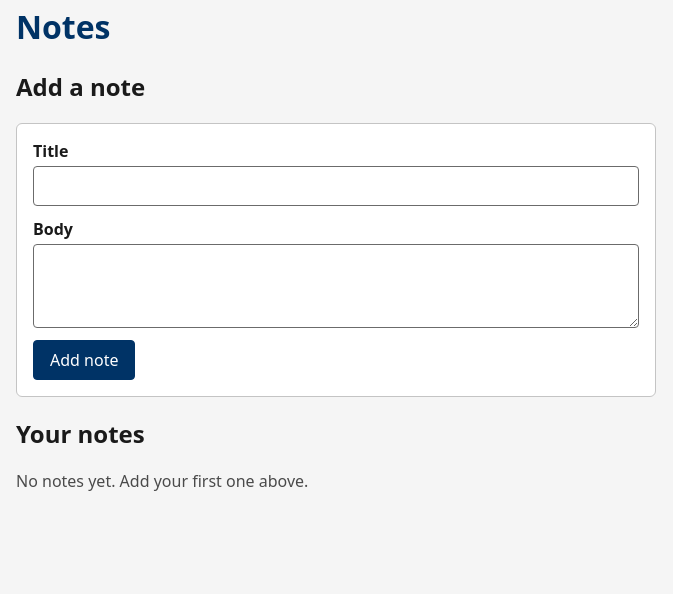
App › adds a new note to the list
Expected: the text "No notes yet. Add your first one above." is shown, [16,470,308,492]
Type "Bread" into the field labelled "Title". click: (336, 186)
box: [33,166,639,206]
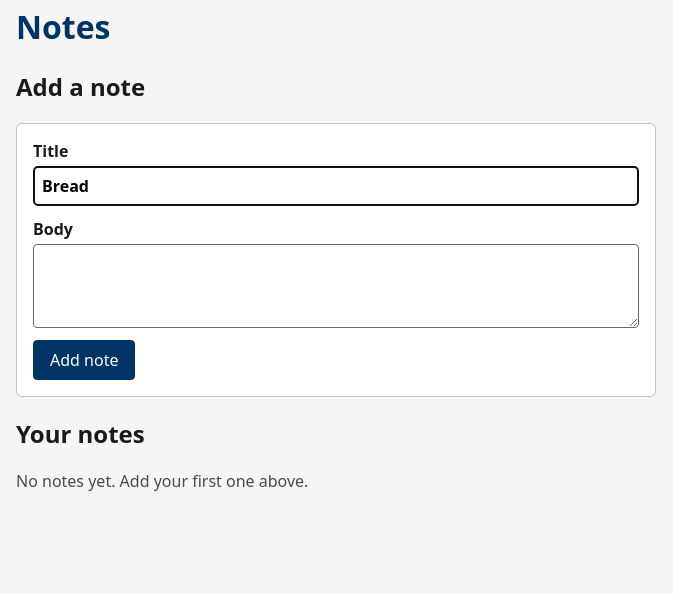
Click the button "Add note". click: (84, 360)
box: [33,340,135,380]
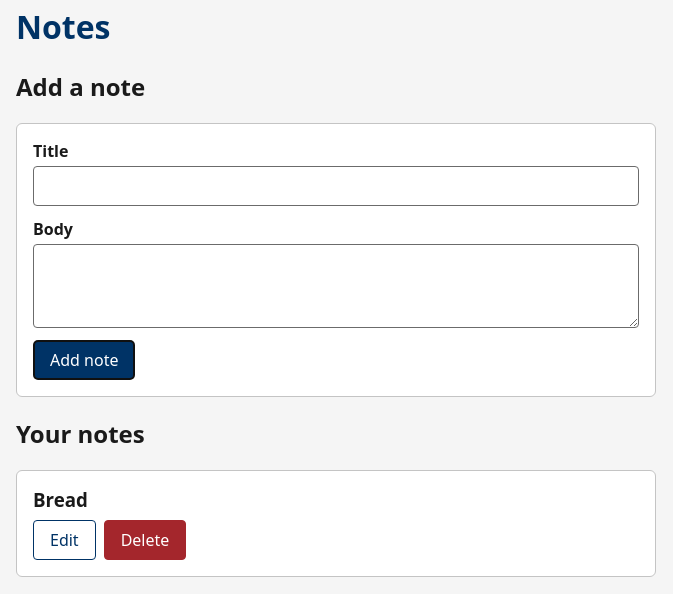
Now the heading "Bread" is shown, box [33,487,88,512]
